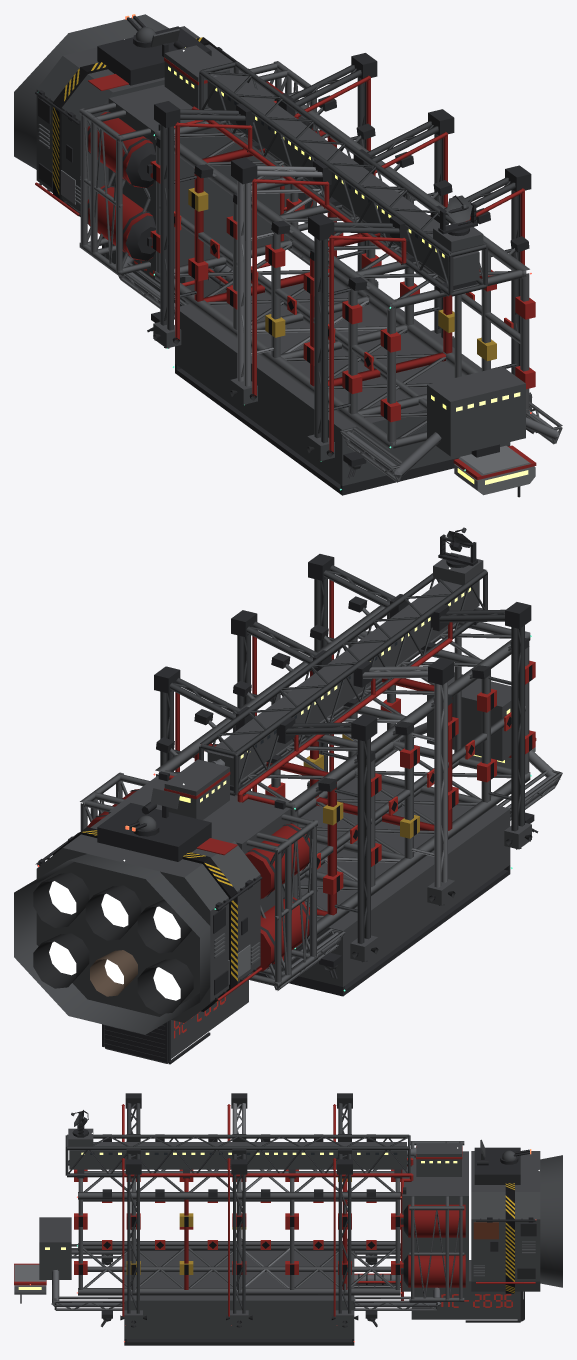
Rendered from crawler_syndicate.glb.
3 views of the same model, one above another, from view 1: azimuth 30°, elevation 25°; view 2: azimuth 150°, elevation 25°; view 3: azimuth 270°, elevation 25° (orthographic). The views are drawn at different scales.
Visible parts, largest first — view 1: trussFrame, berthHangar, spineDeck, serviceCore, spineFrame, fuelRack, crewCompartment, engineBlock, trussClamp, engineSkirt, trussPatchA, leg3_frame (+34 smaller); view 2: trussFrame, engineBlock, berthHangar, spineDeck, spineFrame, engineSkirt, fuelRack, engineHousing, leg1_frame, leg5_frame, leg3_frame, serviceCore (+30 smaller); view 3: berthHangar, trussFrame, spineDeck, engineBlock, spineFrame, serviceCore, engineSkirt, fuelRack, bayHull, crewCompartment, linkCarrierPort, trussClamp (+31 smaller).
Boxes of the visible parts, x1,y1,x2,y2 form: trussFrame: (155, 99, 529, 450); berthHangar: (175, 277, 510, 485); spineDeck: (207, 72, 479, 285); serviceCore: (108, 68, 289, 270); spineFrame: (199, 61, 487, 296); fuelRack: (79, 61, 317, 276); crewCompartment: (427, 366, 525, 456); engineBlock: (36, 26, 233, 211); trussClamp: (150, 160, 535, 422); engineSkirt: (14, 14, 168, 169); trussPatchA: (194, 130, 452, 386); leg3_frame: (237, 166, 322, 386); trussFrame: (155, 600, 530, 950); engineBlock: (36, 811, 260, 1022); berthHangar: (272, 777, 510, 986); spineDeck: (207, 580, 479, 785); spineFrame: (199, 569, 487, 796); engineSkirt: (14, 854, 210, 1034); fuelRack: (80, 772, 317, 987); engineHousing: (97, 803, 211, 861); leg1_frame: (285, 722, 370, 943); leg5_frame: (439, 609, 524, 831); leg3_frame: (362, 666, 447, 887); serviceCore: (108, 776, 290, 982); berthHangar: (124, 1251, 354, 1338); trussFrame: (78, 1169, 400, 1295); spineDeck: (69, 1142, 406, 1169); engineBlock: (471, 1151, 540, 1291); spineFrame: (65, 1134, 410, 1177); serviceCore: (402, 1151, 468, 1291); engineSkirt: (540, 1155, 562, 1287); fuelRack: (409, 1141, 464, 1301); bayHull: (411, 1260, 520, 1319); crewCompartment: (39, 1217, 71, 1279); linkCarrierPort: (54, 1296, 437, 1310); trussClamp: (74, 1169, 403, 1274).
Bounding box in the file's own units: 153 × 200 × 478.
